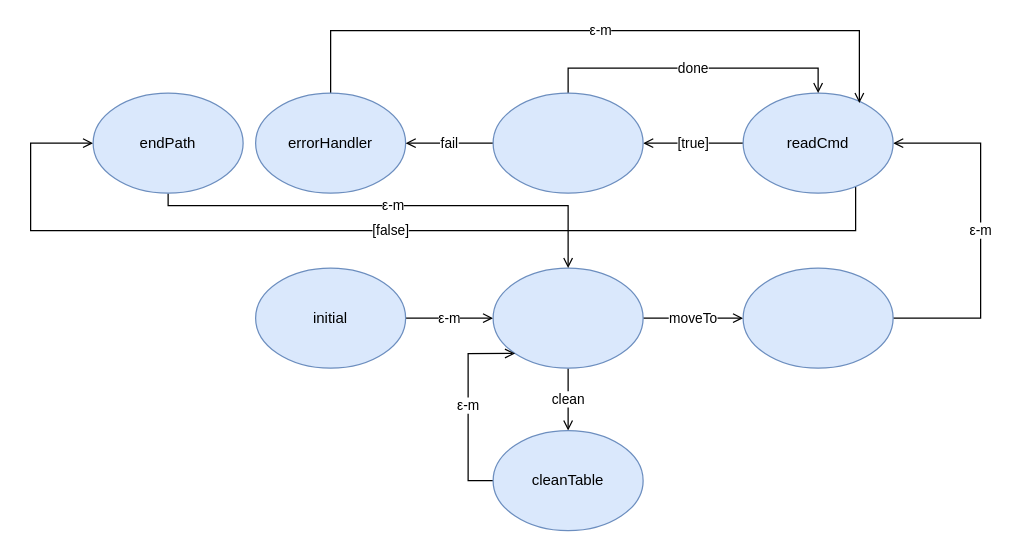
This 1014x553 diagram has some shape labels left out. The shapes that lost their labels are listed below. From the top down, each one's box as (x1, y1, x2, y2) in pixels, then its label:
(492, 92, 643, 193): execCmd
(492, 267, 643, 368): waitCmd
(742, 267, 893, 368): planPath
